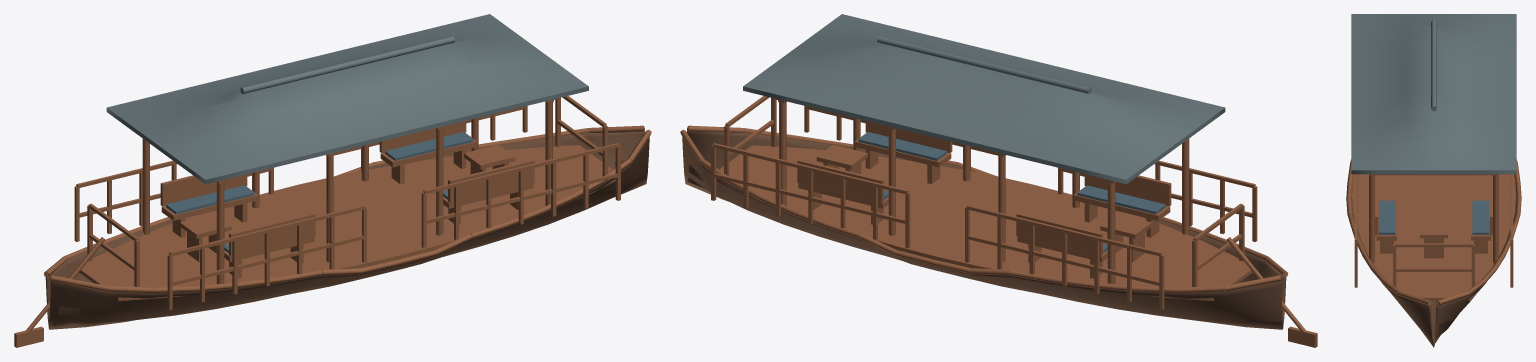
File: barge-lod2.glb
3 views of the same model, side by side, from view 1: azimuth 30°, elevation 25°; view 2: azimuth 150°, elevation 25°; view 3: azimuth 270°, elevation 25° (orthographic). The views are drawn at different scales.
Visible parts, largest first — view 1: barge.wood, barge.roof, barge.hull, barge.cushion; view 2: barge.wood, barge.roof, barge.hull, barge.cushion; view 3: barge.roof, barge.wood, barge.hull, barge.cushion.
Part boxes in pixels (x1,y1,x2,y2): barge.wood: [14, 96, 651, 347]; barge.roof: [106, 14, 588, 184]; barge.hull: [45, 127, 649, 329]; barge.cushion: [166, 132, 473, 252]; barge.wood: [680, 96, 1317, 347]; barge.roof: [743, 14, 1225, 184]; barge.hull: [682, 127, 1286, 329]; barge.cushion: [858, 132, 1165, 252]; barge.roof: [1351, 14, 1516, 174]; barge.wood: [1346, 159, 1521, 305]; barge.hull: [1351, 174, 1516, 347]; barge.cushion: [1379, 200, 1488, 234].
Size of the model in its own units: 12.71 by 4.04 by 3.64.
